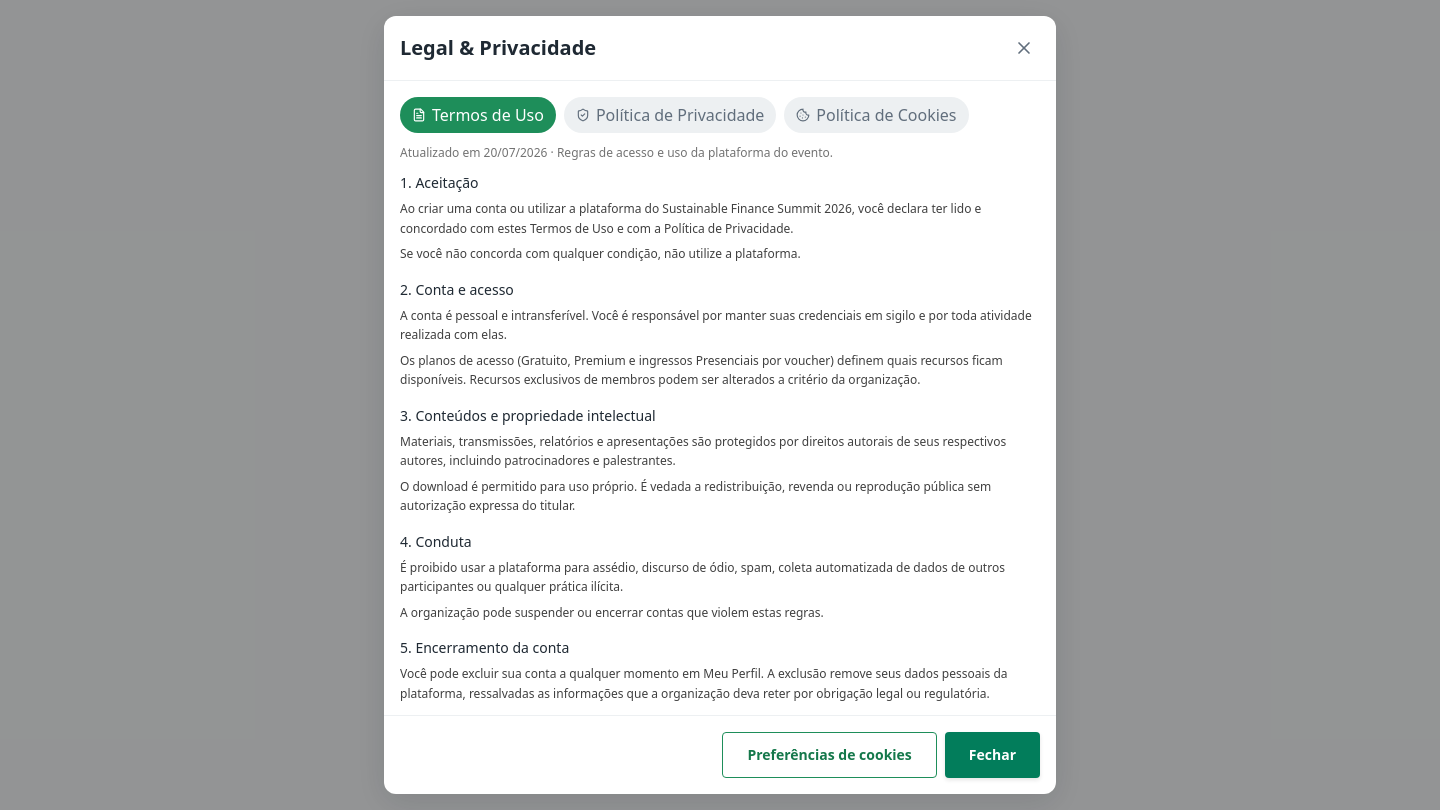
Test case: LegalModal › troca de documento sem fechar o modal
Step 1. Click the button "Política de Cookies" → (876, 115), box [784,97,968,133]
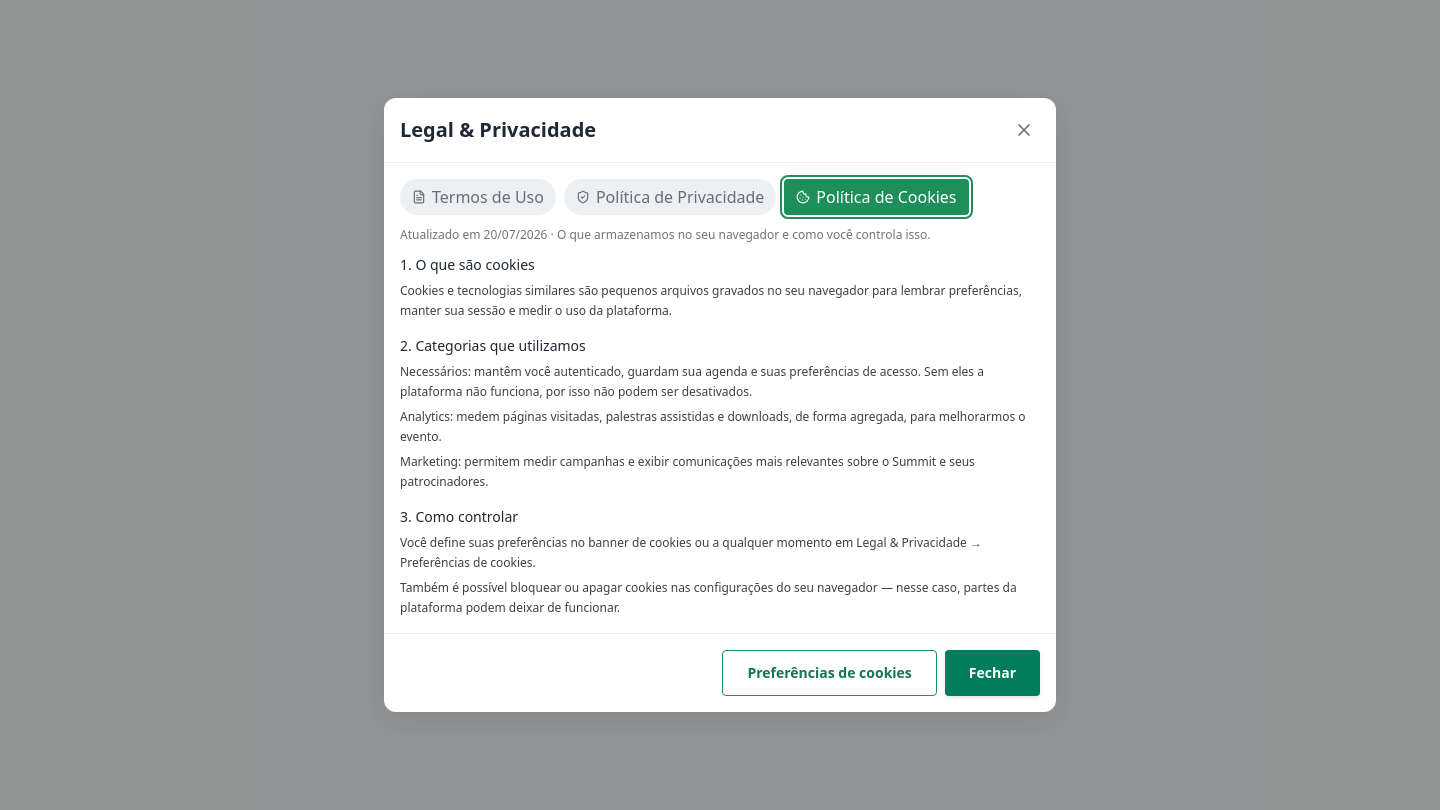
Check: the heading "1. O que são cookies" is shown, box [400,255,535,274]
